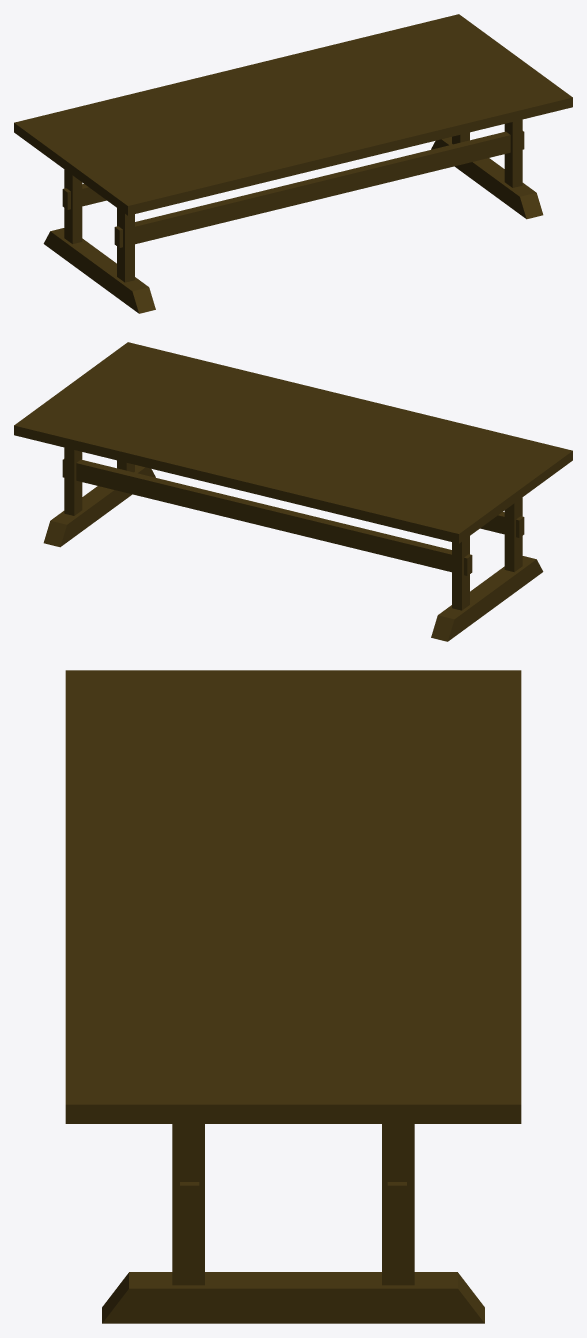
The model's file is DD_7_cafeteriaTable_HENRY.fbx.
The picture shows the model from 3 angles, top to bottom: view 1: azimuth 30°, elevation 25°; view 2: azimuth 150°, elevation 25°; view 3: azimuth 270°, elevation 25°; orthographic projection. The views are drawn at different scales.
Parts seen in each view (by area): view 1: DD_7_cafeteriaTable; view 2: DD_7_cafeteriaTable; view 3: DD_7_cafeteriaTable.
Boxes of the visible parts, x1,y1,x2,y2 form: DD_7_cafeteriaTable: (14,14,572,313); DD_7_cafeteriaTable: (14,342,572,641); DD_7_cafeteriaTable: (65,670,521,1323).
Size of the model in its own units: 26.5 by 6.8 by 11.75.
